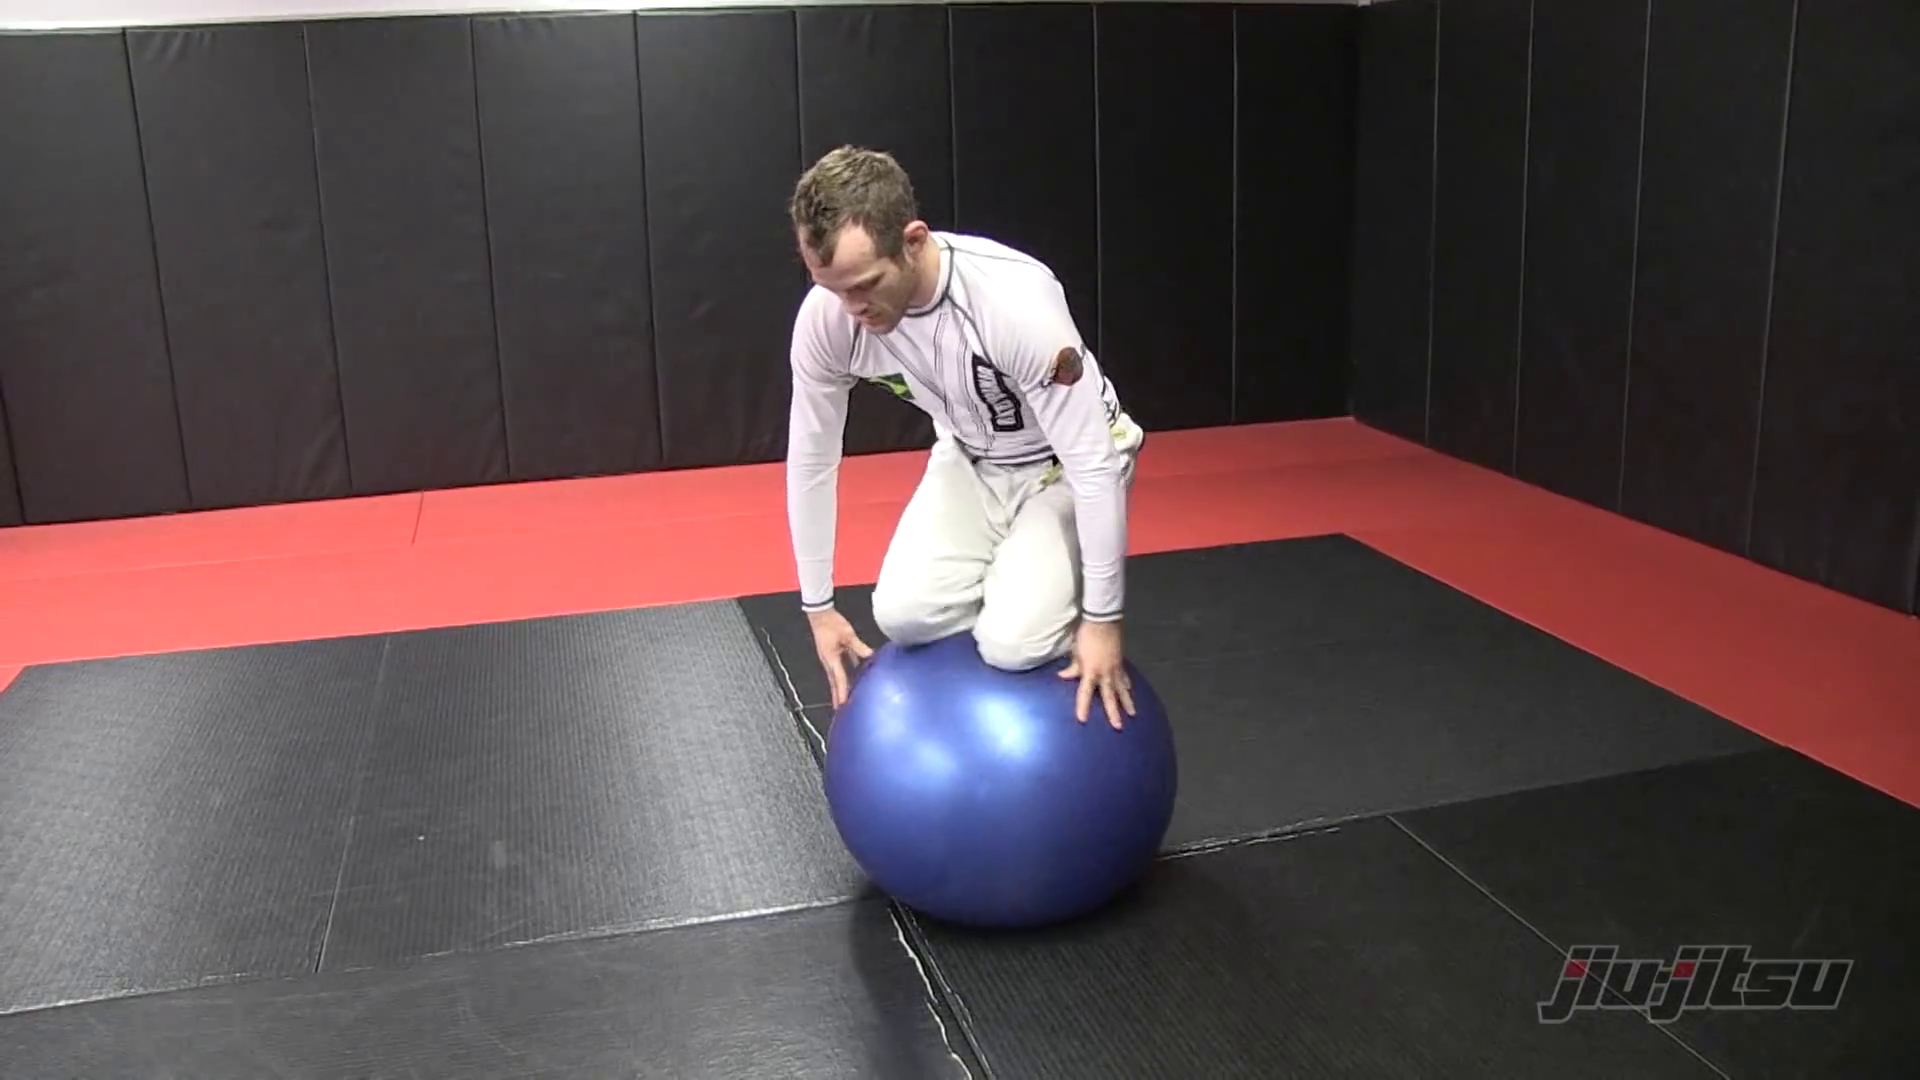yogaball: (800, 630, 1208, 945)
